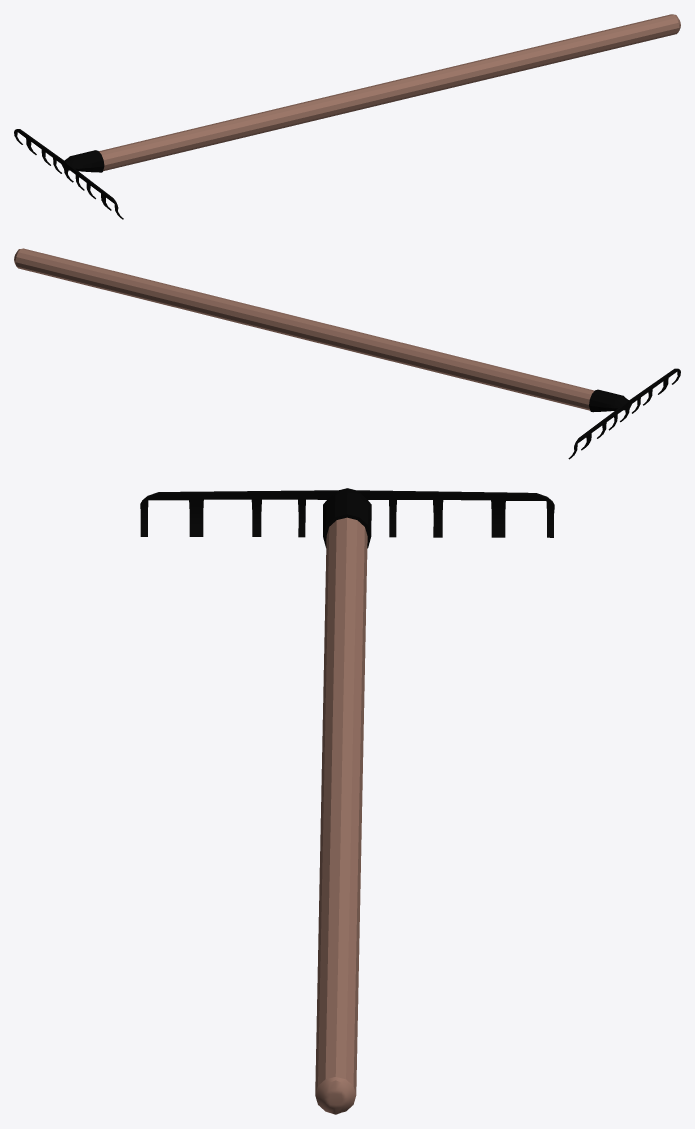
File: Rastelo.fbx
3 views of the same model, one above another, from view 1: azimuth 30°, elevation 25°; view 2: azimuth 150°, elevation 25°; view 3: azimuth 270°, elevation 25° (orthographic). The views are drawn at different scales.
Parts seen in each view (by area): view 1: Rastelo_Mesh; view 2: Rastelo_Mesh; view 3: Rastelo_Mesh.
Part boxes in pixels (x1,y1,x2,y2): Rastelo_Mesh: [14, 14, 680, 219]; Rastelo_Mesh: [14, 248, 680, 459]; Rastelo_Mesh: [140, 488, 554, 1114].
Size of the model in its own units: 189 by 7.28 by 55.68.
